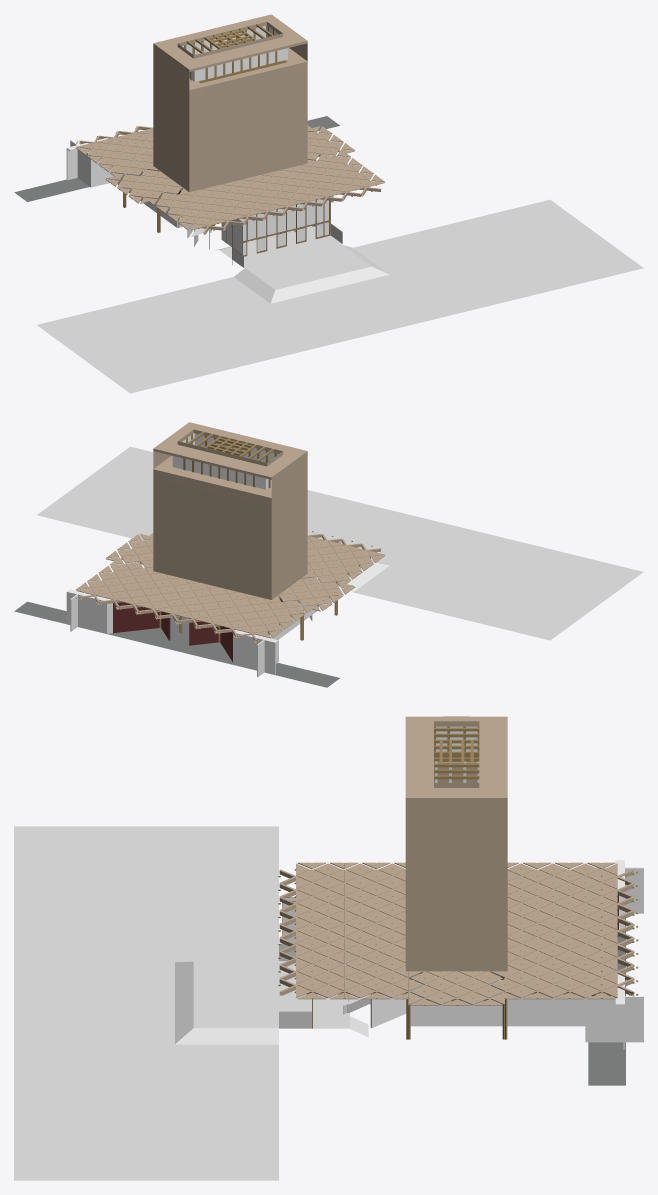
The model's file is Chancery Rosewood_V8_.glb.
3 renders of one model, top to bottom at view 1: azimuth 30°, elevation 25°; view 2: azimuth 150°, elevation 25°; view 3: azimuth 270°, elevation 25°, orthographic. The views are drawn at different scales.
Parts seen in each view (by area): view 1: Plane, Plane.002, Cieling Panels.001, Plane.022, Cieling supports.009, Cieling Panels.002, Front glass, Lobby Walls, Plane.021, Plane.023, Floor Lobby, Plane.015; view 2: Plane, Plane.002, Cieling Panels.001, Plane.022, Cieling supports.009, Lobby Walls, Floor Lobby, Cieling Panels.002, Walls_Pavillion.001, Plane.023, Plane.021, Cieling supports.010; view 3: Plane, Cieling Panels.001, Plane.002, Plane.022, Cieling supports.009, Lobby Walls, Cieling Panels.002, Plane.021, Floor Lobby.
Part boxes in pixels (x1,y1,x2,y2): Plane: (37,199,643,393); Plane.002: (153,70,307,192); Cieling Panels.001: (76,125,384,230); Plane.022: (153,14,307,99); Cieling supports.009: (79,126,381,234); Cieling Panels.002: (105,126,355,203); Front glass: (239,199,328,255); Lobby Walls: (66,138,333,237); Plane.021: (184,24,287,83); Plane.023: (182,25,287,81); Floor Lobby: (14,116,339,201); Plane.015: (232,196,330,259); Plane: (37,446,643,640); Plane.002: (153,478,307,599); Cieling Panels.001: (75,533,385,638); Plane.022: (153,422,307,506); Cieling supports.009: (79,534,381,642); Lobby Walls: (66,567,333,676); Floor Lobby: (14,601,339,687); Cieling Panels.002: (105,534,355,611); Walls_Pavillion.001: (113,602,232,661); Plane.023: (172,433,278,489); Plane.021: (183,431,276,487); Cieling supports.010: (121,540,339,606); Plane: (14,826,368,1180); Cieling Panels.001: (296,862,617,999); Plane.002: (405,761,507,971); Plane.022: (405,716,507,840); Cieling supports.009: (279,869,633,995); Lobby Walls: (370,860,643,1049); Cieling Panels.002: (408,971,504,1005); Plane.021: (434,726,479,779); Floor Lobby: (410,918,625,1085).
Bounding box in the file's own units: 88.6 × 29.3 × 66.6.
14 materials, 1 textured.
